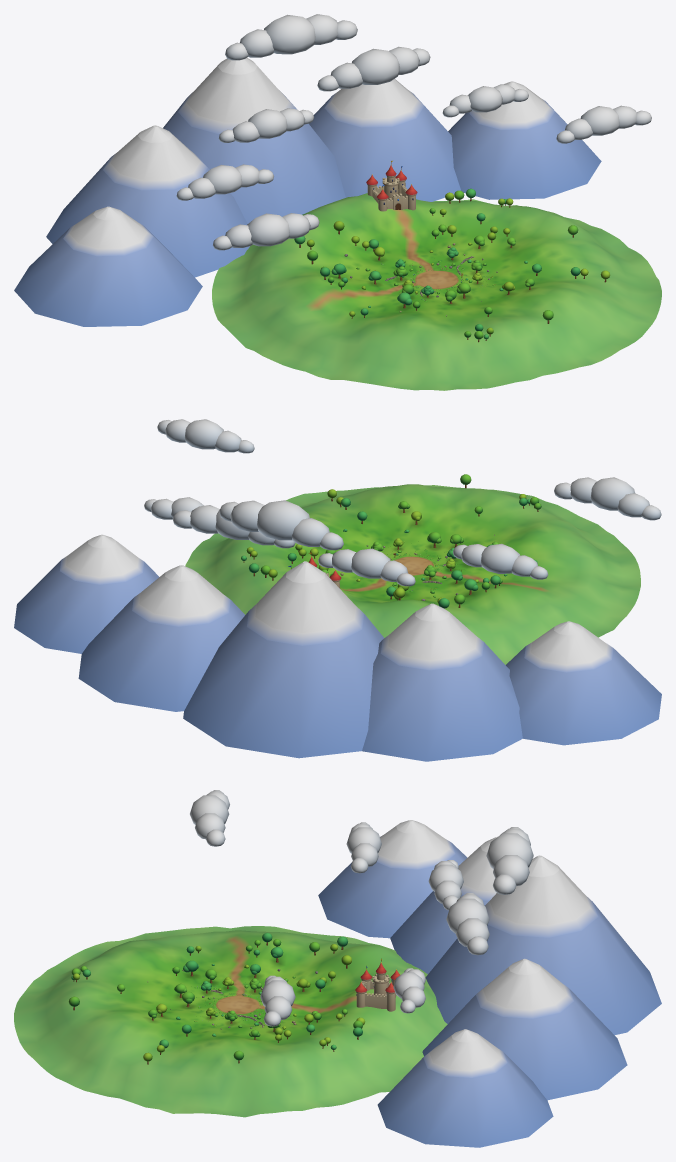
Rendered from arena_meadow.glb.
3 views of the same model, one above another, from view 1: azimuth 30°, elevation 25°; view 2: azimuth 150°, elevation 25°; view 3: azimuth 270°, elevation 25° (orthographic). The views are drawn at different scales.
Visible parts, largest first — view 1: Meadow_Mountains, Meadow_Ground, Meadow_Clouds, Meadow_Trees, Meadow_Castle; view 2: Meadow_Mountains, Meadow_Ground, Meadow_Clouds, Meadow_Trees; view 3: Meadow_Mountains, Meadow_Ground, Meadow_Clouds, Meadow_Trees, Meadow_Castle.
Boxes of the visible parts, x1,y1,x2,y2 form: Meadow_Mountains: [14, 58, 601, 326]; Meadow_Ground: [212, 193, 661, 390]; Meadow_Clouds: [176, 14, 651, 250]; Meadow_Trees: [294, 188, 610, 342]; Meadow_Castle: [366, 160, 417, 211]; Meadow_Mountains: [14, 534, 661, 761]; Meadow_Ground: [185, 484, 640, 664]; Meadow_Clouds: [144, 419, 661, 586]; Meadow_Trees: [241, 474, 541, 608]; Meadow_Mountains: [318, 820, 661, 1147]; Meadow_Ground: [14, 926, 447, 1117]; Meadow_Clouds: [190, 790, 533, 1026]; Meadow_Trees: [68, 932, 365, 1064]; Meadow_Castle: [355, 958, 399, 1011].
Size of the model in its own units: 273 by 81.3 by 262.
